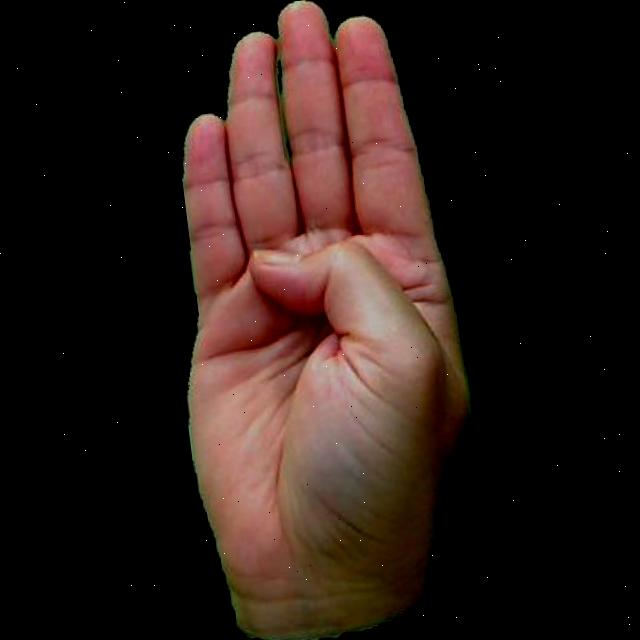b: (113, 0, 508, 640)
